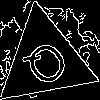Q: (19, 35, 79, 98)
